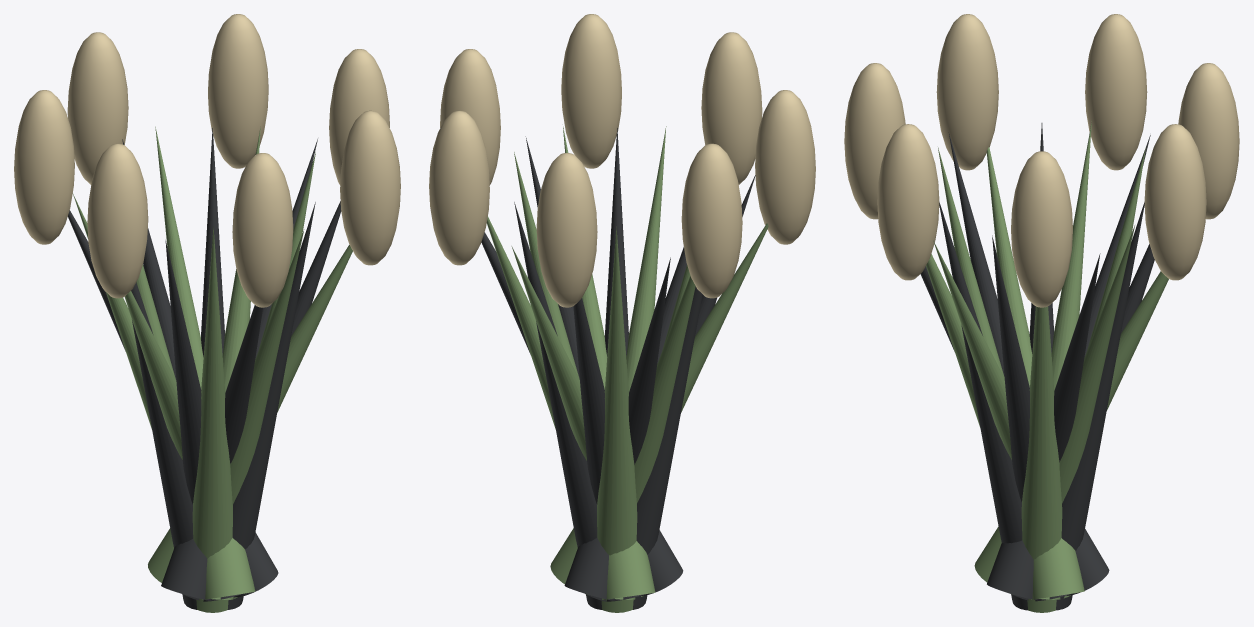
3 renders of one model, left to right at view 1: azimuth 30°, elevation 25°; view 2: azimuth 150°, elevation 25°; view 3: azimuth 270°, elevation 25°, orthographic.
Visible parts, largest first — view 1: sphere-plume (×7), cone-leaf2 (×9), cone-primary (×9); view 2: sphere-plume (×7), cone-leaf2 (×8), cone-primary (×9); view 3: sphere-plume (×7), cone-leaf2 (×9), cone-primary (×8).
Part boxes in pixels (box(x1,y1,x2,y2)): sphere-plume (×7): box(14, 14, 400, 307); cone-leaf2 (×9): box(72, 126, 352, 612); cone-primary (×9): box(68, 128, 341, 609); sphere-plume (×7): box(429, 14, 815, 307); cone-leaf2 (×8): box(486, 126, 768, 612); cone-primary (×9): box(481, 128, 755, 609); sphere-plume (×7): box(844, 14, 1239, 307); cone-leaf2 (×9): box(926, 121, 1168, 612); cone-primary (×8): box(920, 132, 1154, 610).
Bounding box in the file's own units: 0.4982 × 0.7393 × 0.509.
